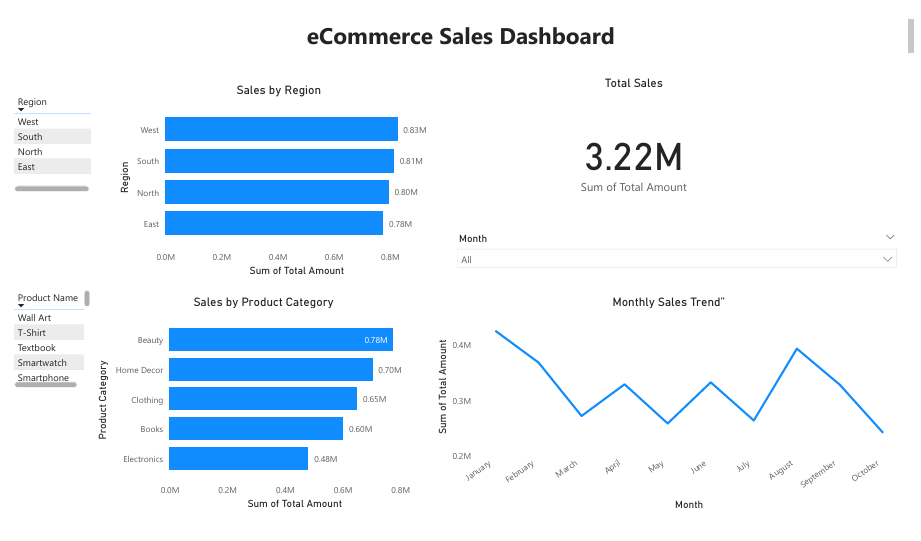

The dashboard page shown, as its layout file describes it:
{"tool":"powerbi","page":{"name":"Page 1","canvas":[1280,720],"ordinal":0},"visuals":[{"type":"card","title":"Total Sales","fields":{"Values":["Sum(ecommerce_sales_data.Total Amount)"]},"box":[639.6,84.2,479.3,215.4],"z":0},{"type":"clusteredBarChart","title":"Sales by Product Category","fields":{"Category":["ecommerce_sales_data.Product Category"],"Y":["Sum(ecommerce_sales_data.Total Amount)"]},"box":[118.2,391.9,479.3,307.7],"z":1000},{"type":"clusteredBarChart","title":"Sales by Region","fields":{"Category":["ecommerce_sales_data.Region"],"Y":["Sum(ecommerce_sales_data.Total Amount)"]},"box":[149,93.9,459.9,276.9],"z":2000},{"type":"lineChart","title":"Monthly Sales Trend”","fields":{"Category":["ecommerce_sales_data.Order Date.Variation.Date Hierarchy.Month"],"Y":["Sum(ecommerce_sales_data.Total Amount)"]},"box":[597.5,391.9,662.3,309.3],"z":3000},{"type":"tableEx","fields":{"Values":["ecommerce_sales_data.Region"]},"box":[0,105.2,118.2,147.3],"z":4000},{"type":"tableEx","fields":{"Values":["ecommerce_sales_data.Product Name"]},"box":[0,380.5,118.2,149],"z":5000},{"type":"textbox","box":[0,0,1279.2,63.1],"z":7000},{"type":"slicer","fields":{"Values":["ecommerce_sales_data.Order Date.Variation.Date Hierarchy.Month"]},"box":[620.2,299.6,639.6,59.9],"z":7001}]}

Visuals, with their boxes on the page's 1280x720 design canvas (x1, y1, x2, y2). These are canvas units, not pixel positions in the 921x541 screenshot, which may show the page scaled, cropped or inside an application window:
"Total Sales" card: bbox=(640, 84, 1119, 300)
"Sales by Product Category" clusteredBarChart: bbox=(118, 392, 598, 700)
"Sales by Region" clusteredBarChart: bbox=(149, 94, 609, 371)
"Monthly Sales Trend”" lineChart: bbox=(598, 392, 1260, 701)
tableEx - ecommerce_sales_data.Region: bbox=(0, 105, 118, 252)
tableEx - ecommerce_sales_data.Product Name: bbox=(0, 380, 118, 530)
textbox: bbox=(0, 0, 1279, 63)
slicer - ecommerce_sales_data.Order Date.Variation.Date Hierarchy.Month: bbox=(620, 300, 1260, 360)
